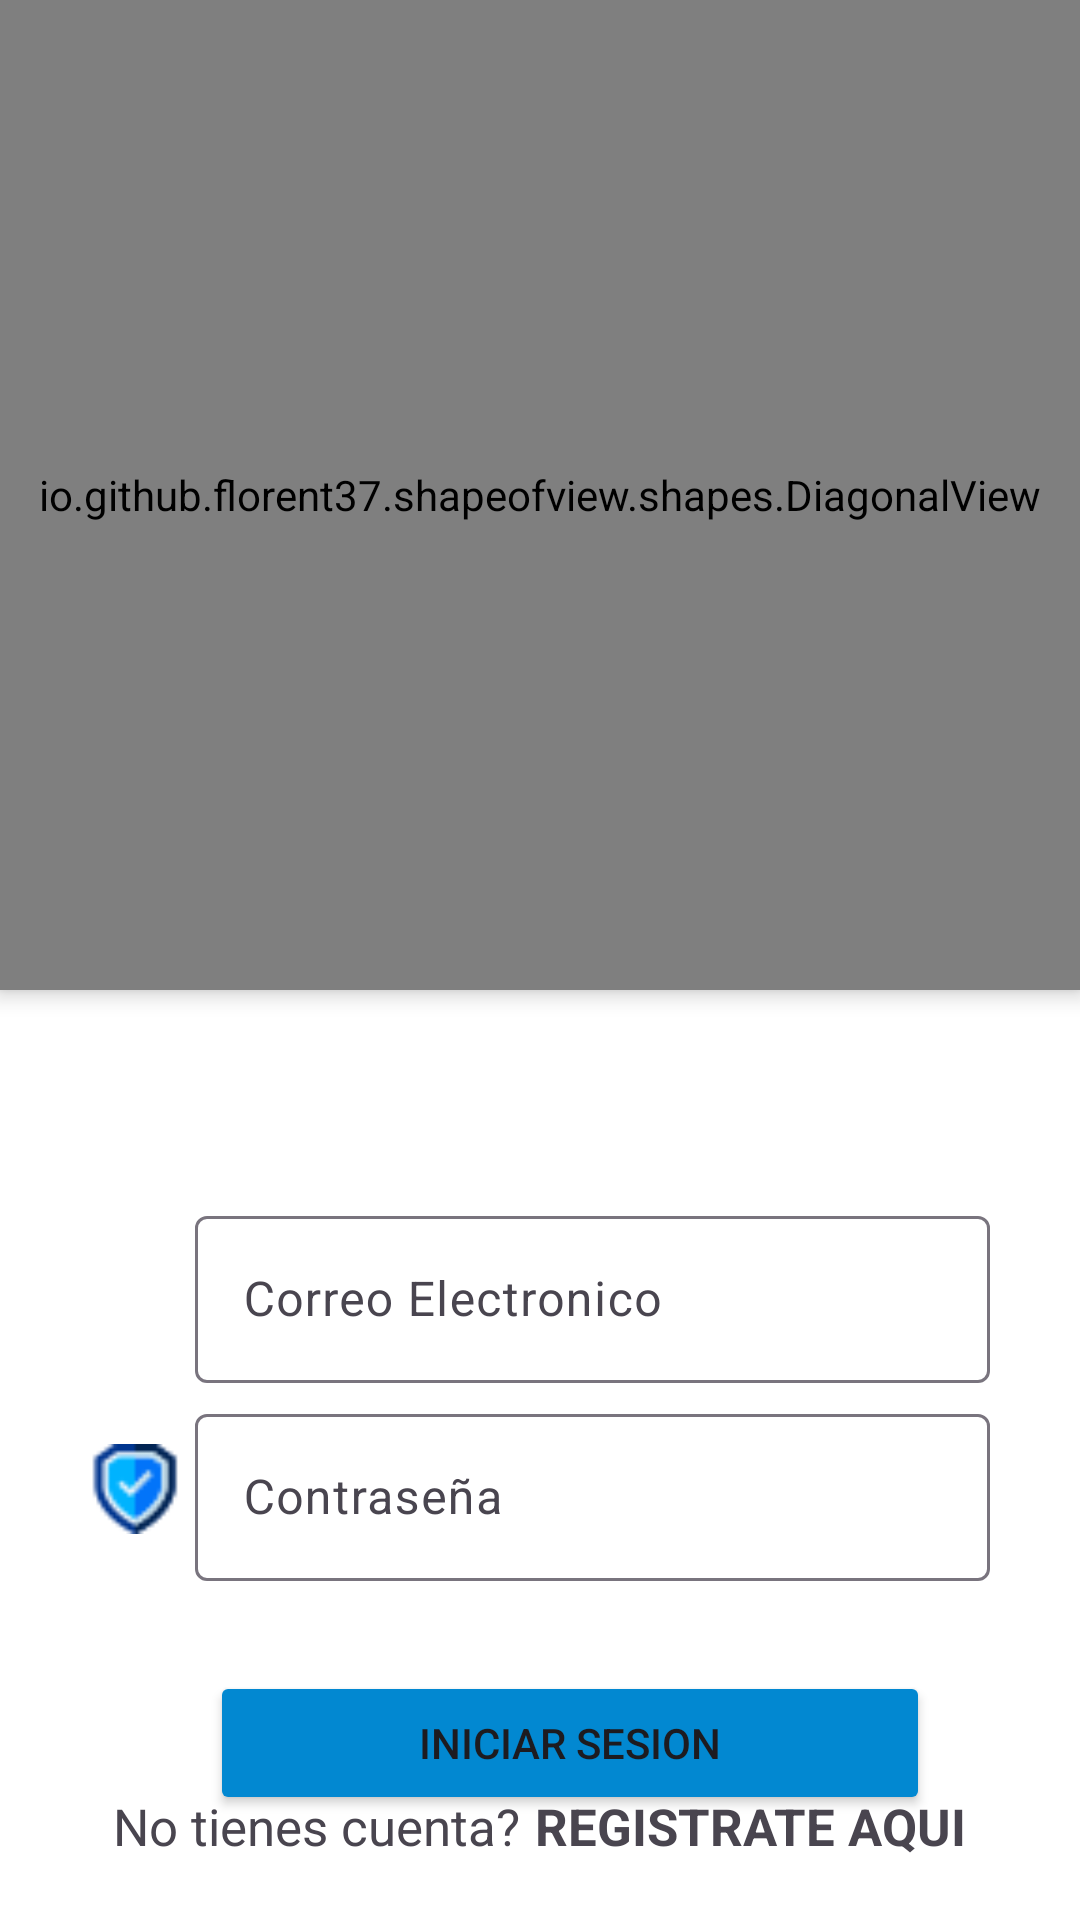

Named icons in this screenshot (1080px×1920px) and their bounding boxes, bbox(x1, y1, x2, y2):
security: bbox(92, 1444, 178, 1534)
